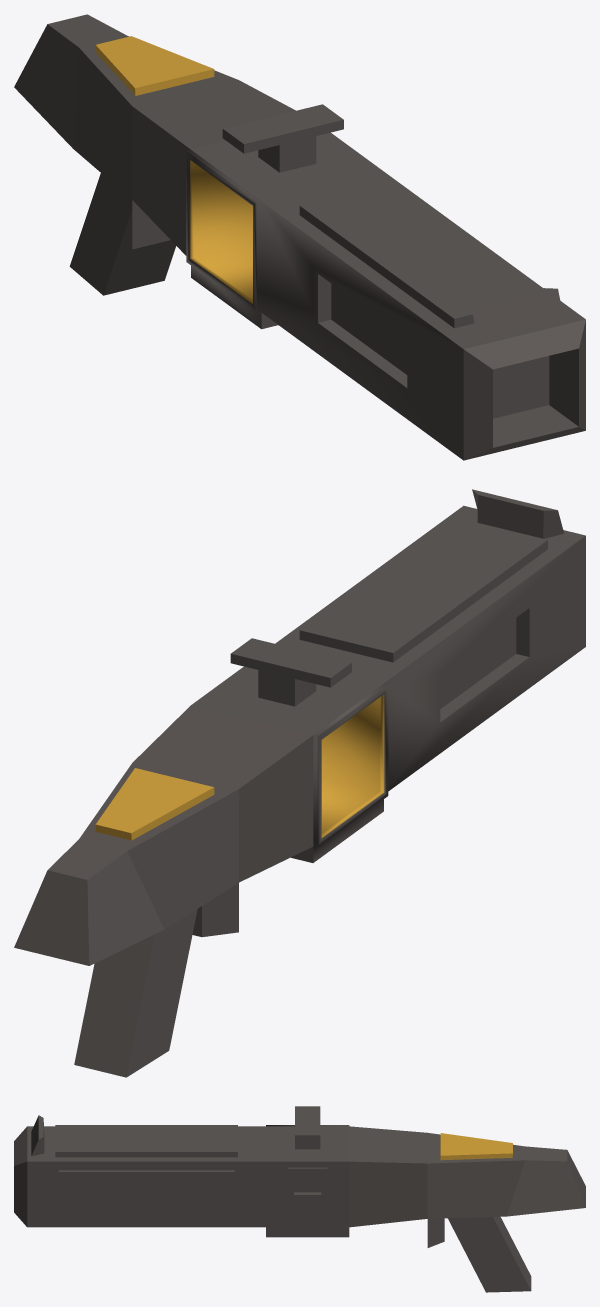
The model's file is Shotgun.fbx.
3 renders of one model, top to bottom at view 1: azimuth 30°, elevation 25°; view 2: azimuth 150°, elevation 25°; view 3: azimuth 270°, elevation 25°, orthographic. The views are drawn at different scales.
Visible parts, largest first — view 1: Cube.001; view 2: Cube.001; view 3: Cube.001.
Boxes of the visible parts, x1=… form: Cube.001: x1=14, y1=14, x2=585, y2=460; Cube.001: x1=14, y1=489, x2=585, y2=1077; Cube.001: x1=14, y1=1106, x2=585, y2=1292.
Bounding box in the file's own units: 217 × 430 × 1371.
